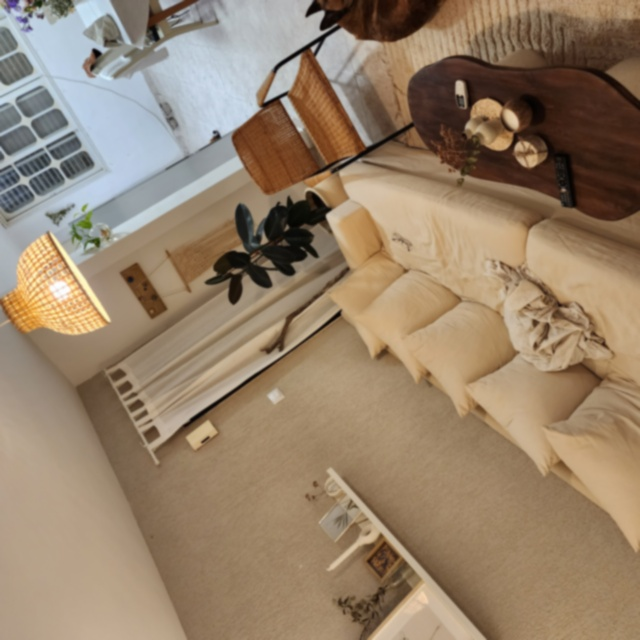glasses: (387, 230, 416, 252)
